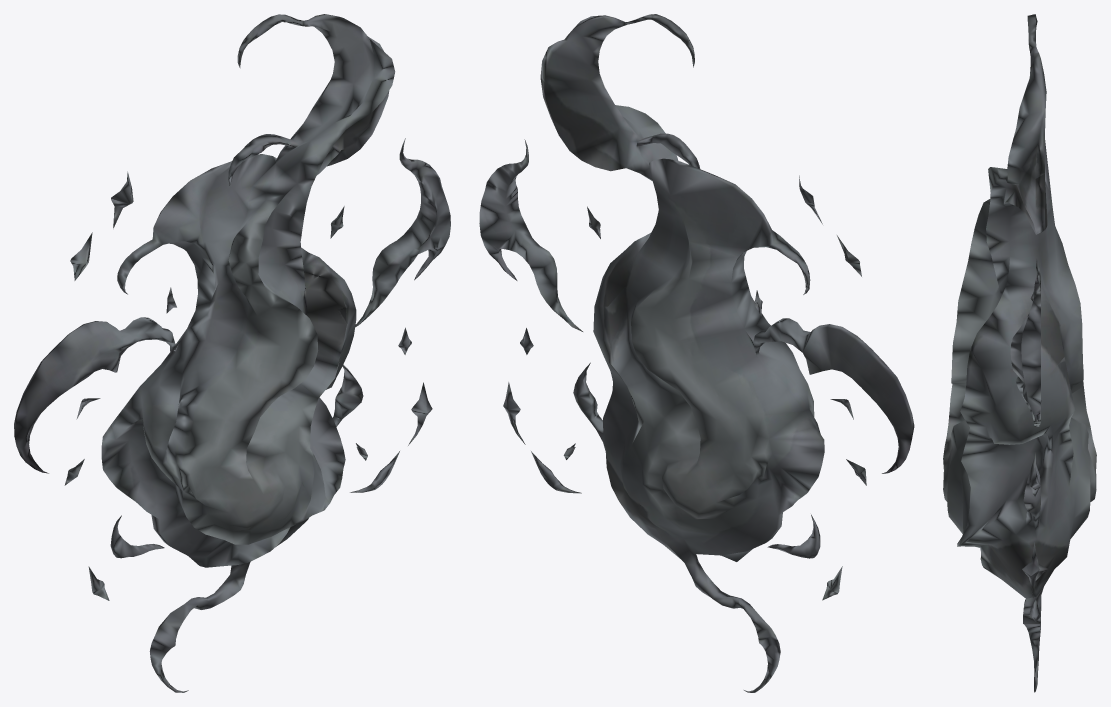
The model's file is seelenlicht_erloschen.glb.
3 renders of one model, left to right at view 1: azimuth 30°, elevation 25°; view 2: azimuth 150°, elevation 25°; view 3: azimuth 270°, elevation 25°, orthographic. The views are drawn at different scales.
Visible parts, largest first — view 1: baum; view 2: baum; view 3: baum.
Part boxes in pixels (x1=…): baum: x1=14, y1=14, x2=450, y2=692; baum: x1=479, y1=14, x2=914, y2=692; baum: x1=943, y1=14, x2=1096, y2=692.
Bounding box in the file's own units: 0.554 × 0.8 × 0.1542.
1 material, 1 textured.
